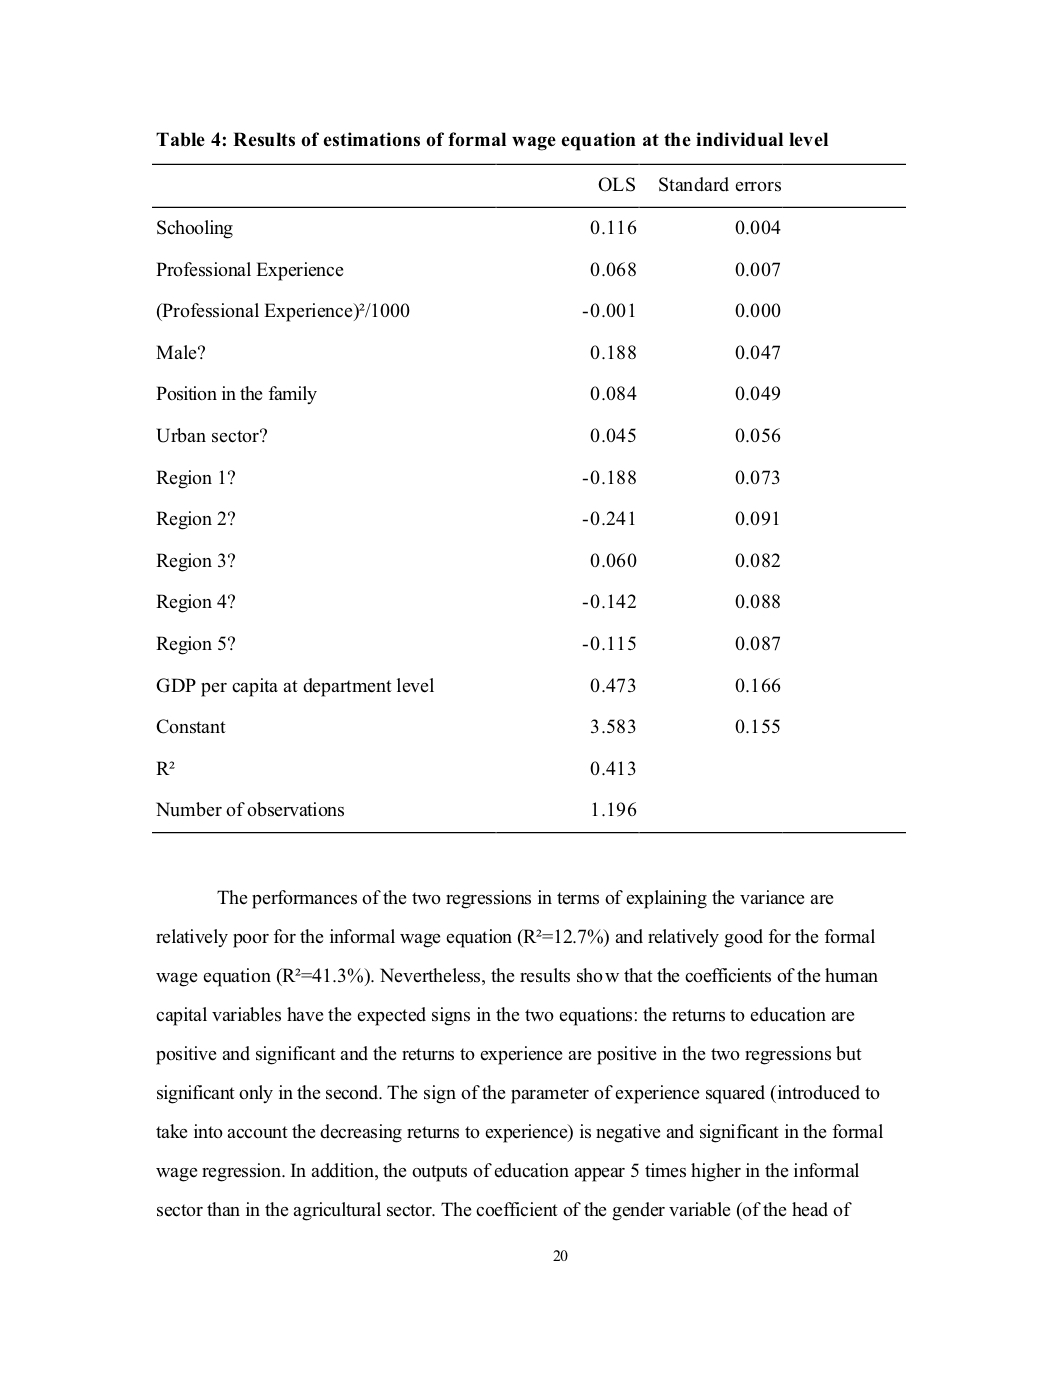Table: (152, 163, 905, 832)
